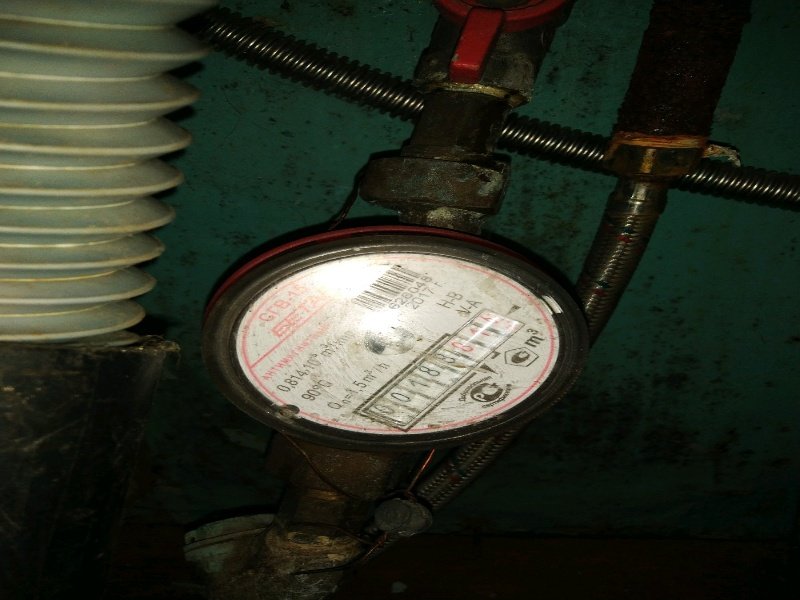dial: (378, 328, 508, 429)
